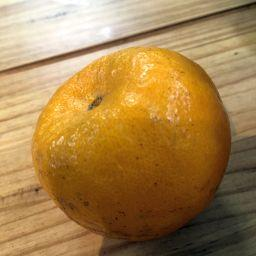Ripe: (30, 45, 231, 236)
